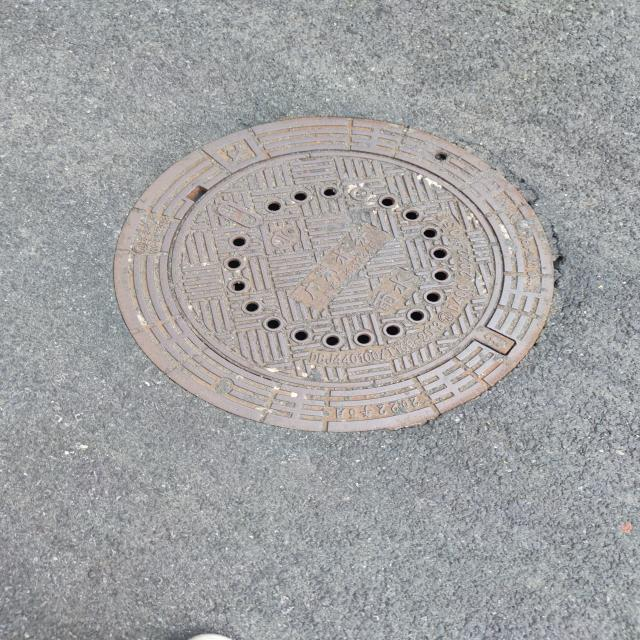Good: (110, 113, 572, 440)
